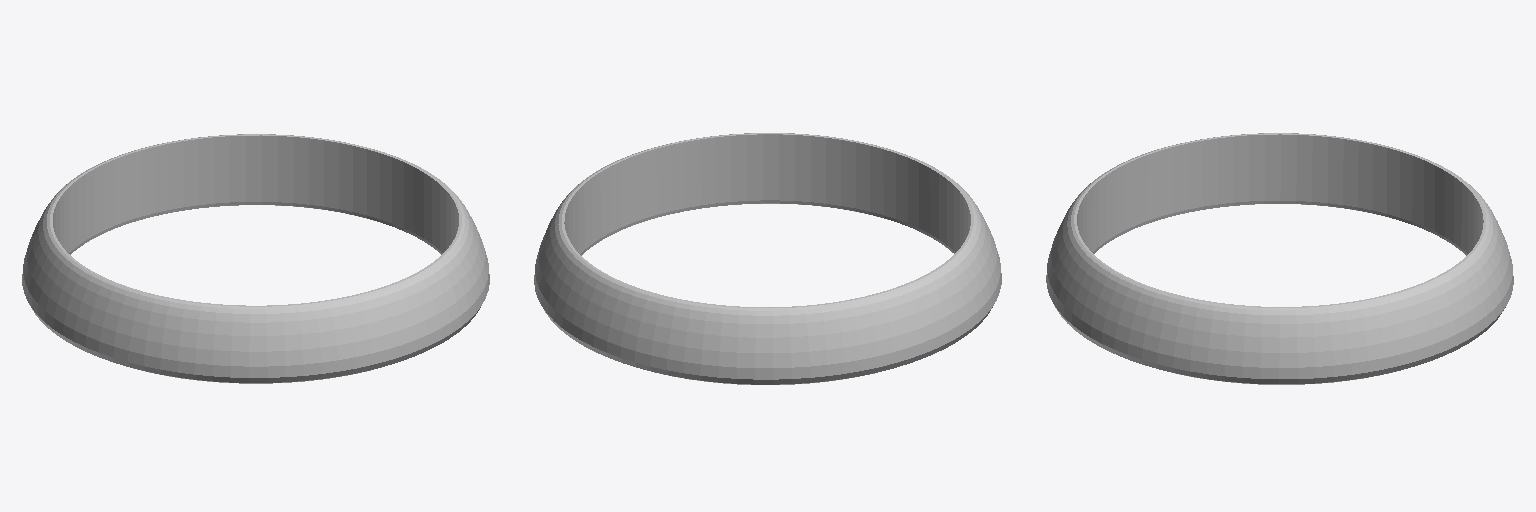
File: R-Ring2.obj
The picture shows the model from 3 angles: view 1: azimuth 30°, elevation 25°; view 2: azimuth 150°, elevation 25°; view 3: azimuth 270°, elevation 25°; orthographic projection.
Parts seen in each view (by area): view 1: pCylinder8 pCylinder3SmoothProxyGroup; view 2: pCylinder8 pCylinder3SmoothProxyGroup; view 3: pCylinder8 pCylinder3SmoothProxyGroup.
Part boxes in pixels (x1,y1,x2,y2): pCylinder8 pCylinder3SmoothProxyGroup: (22, 134, 489, 383); pCylinder8 pCylinder3SmoothProxyGroup: (534, 133, 1001, 384); pCylinder8 pCylinder3SmoothProxyGroup: (1046, 133, 1513, 384).
Size of the model in its own units: 2.5 by 0.4265 by 2.5.